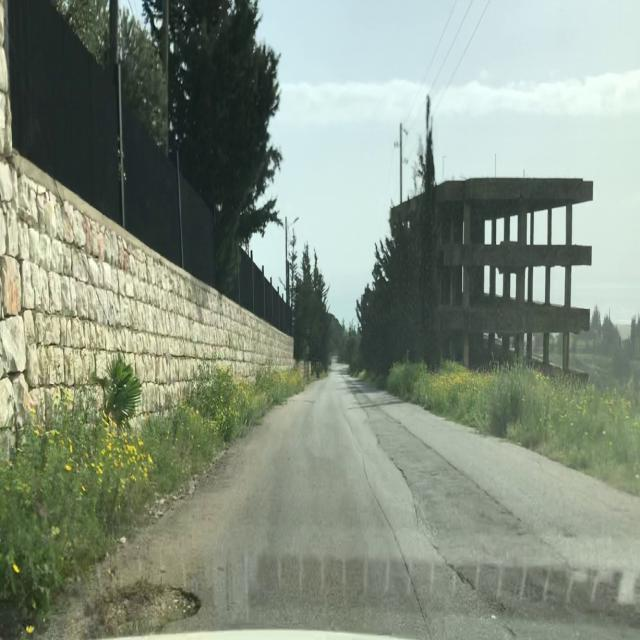pothole: (55, 574, 205, 640)
